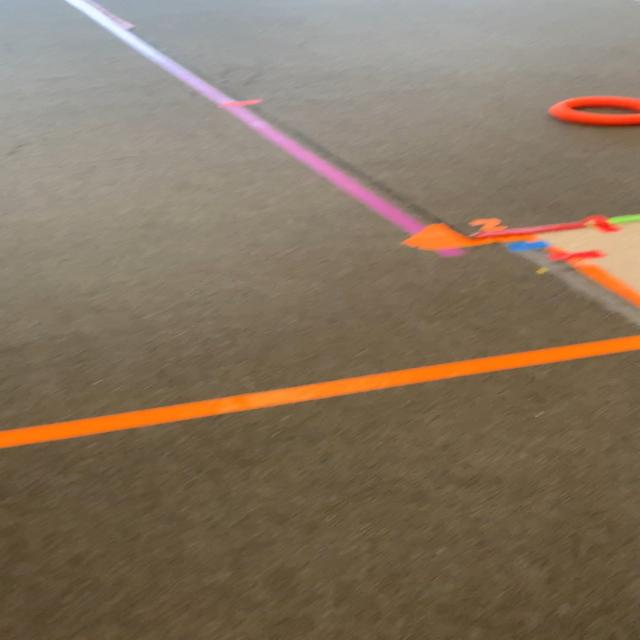notes: (551, 94, 640, 124)
